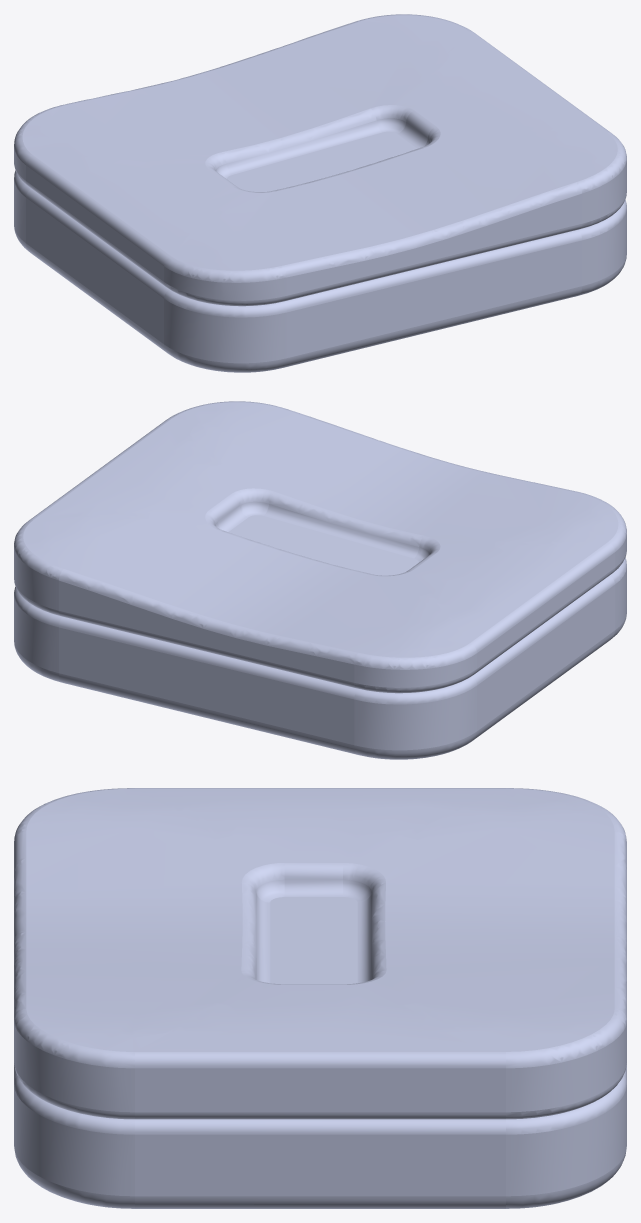
Rendered from lotus-seat.glb.
3 views of the same model, one above another, from view 1: azimuth 30°, elevation 25°; view 2: azimuth 150°, elevation 25°; view 3: azimuth 270°, elevation 25° (orthographic). The views are drawn at different scales.
Parts seen in each view (by area): view 1: empty_3, empty_2; view 2: empty_3, empty_2; view 3: empty_3, empty_2.
Boxes of the visible parts, <box> form: empty_3: <box>14,14,626,306</box>; empty_2: <box>14,170,626,372</box>; empty_3: <box>14,401,626,693</box>; empty_2: <box>14,557,626,759</box>; empty_3: <box>14,788,626,1119</box>; empty_2: <box>14,1063,626,1208</box>.
Size of the model in its own units: 0.48 by 0.1203 by 0.42.
